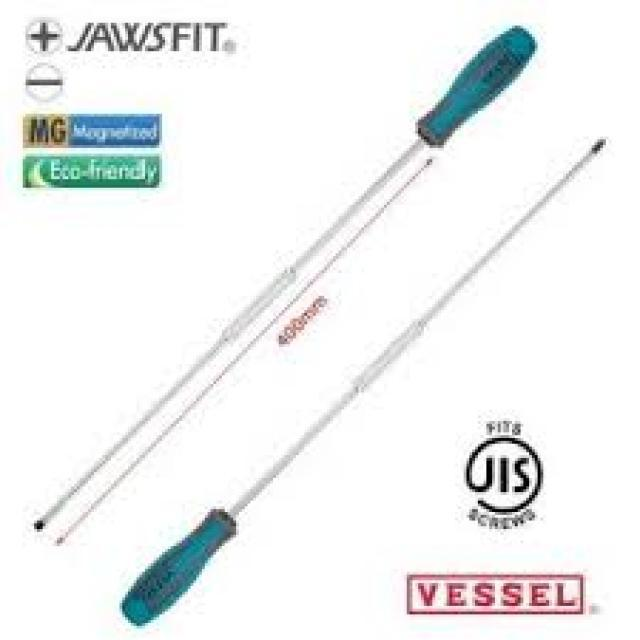screwdriver: (17, 22, 543, 546), (112, 132, 616, 630)
